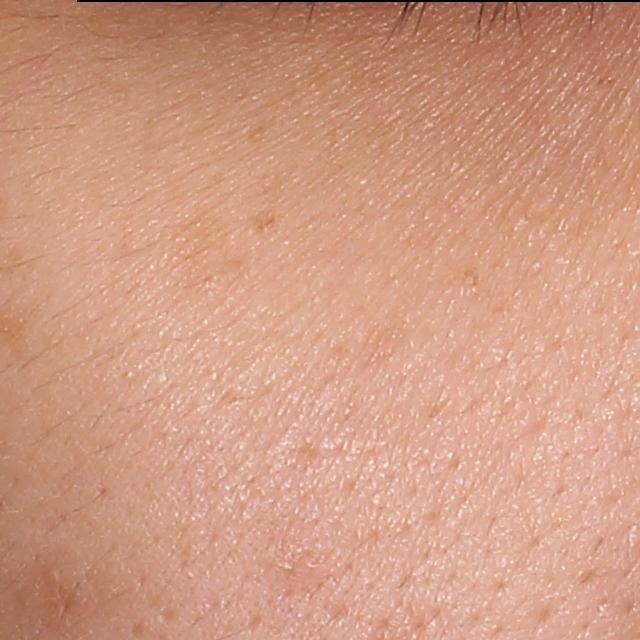melasma: (251, 205, 284, 236)
